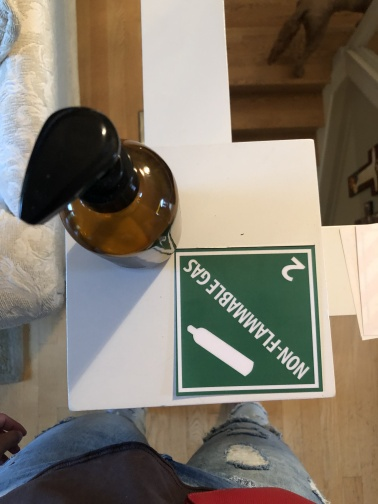NonFlammableGas: (171, 244, 326, 397)
